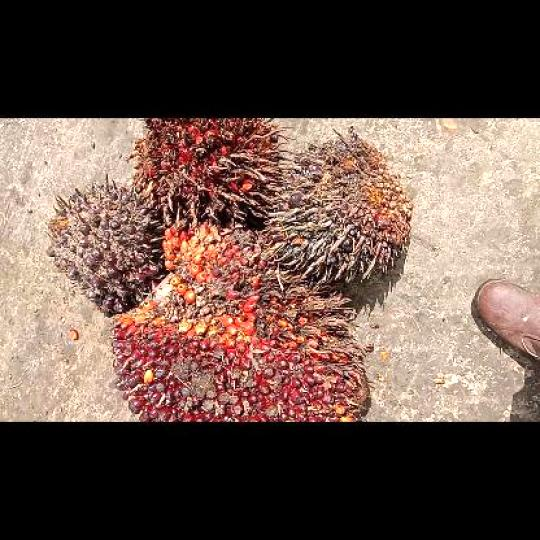kurang masak: (46, 180, 162, 316)
masak: (110, 226, 370, 420)
terlalu masak: (129, 118, 281, 222)
